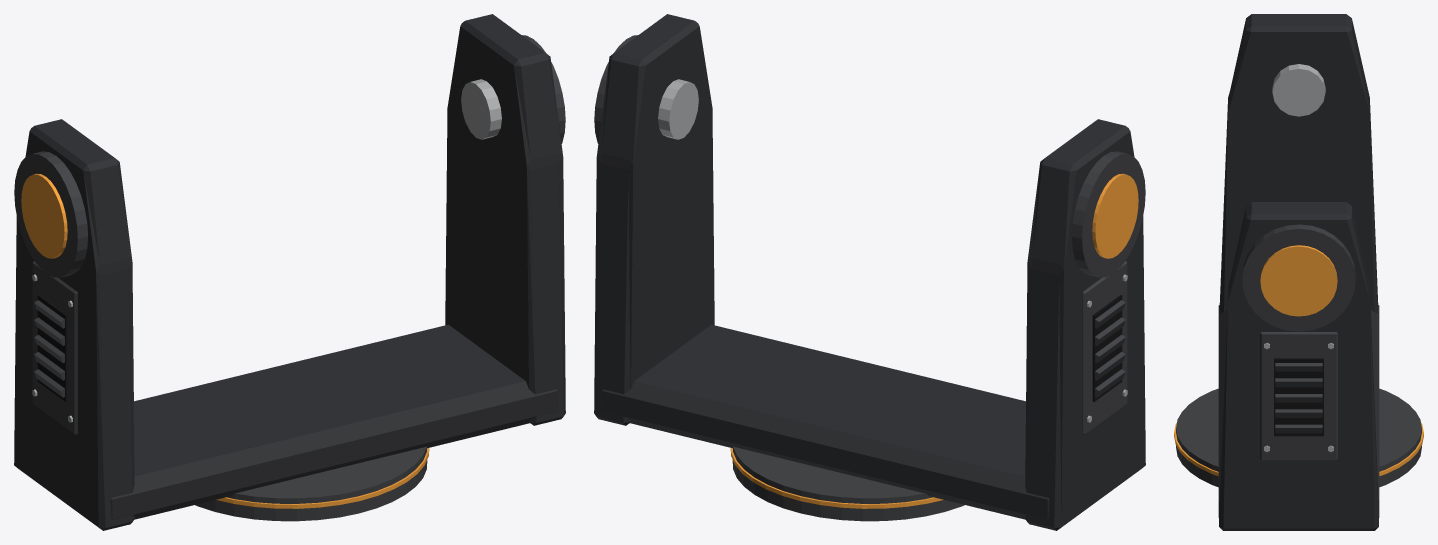
The model's file is csc_pixelwash_w37_yoke.obj.
The picture shows the model from 3 angles, left to right: view 1: azimuth 30°, elevation 25°; view 2: azimuth 150°, elevation 25°; view 3: azimuth 270°, elevation 25°; orthographic projection. The views are drawn at different scales.
Parts seen in each view (by area): view 1: yoke_csc_2f3033, yoke_csc_3f4043, yoke_csc_f9a238, yoke_csc_adafb1, yoke_csc_161618; view 2: yoke_csc_2f3033, yoke_csc_3f4043, yoke_csc_f9a238, yoke_csc_adafb1, yoke_csc_161618; view 3: yoke_csc_2f3033, yoke_csc_3f4043, yoke_csc_f9a238, yoke_csc_adafb1, yoke_csc_161618.
Boxes of the visible parts, x1,y1,x2,y2 form: yoke_csc_2f3033: [14, 14, 565, 530]; yoke_csc_3f4043: [14, 35, 565, 521]; yoke_csc_f9a238: [21, 173, 429, 508]; yoke_csc_adafb1: [32, 79, 501, 422]; yoke_csc_161618: [37, 295, 67, 401]; yoke_csc_2f3033: [594, 14, 1145, 530]; yoke_csc_3f4043: [594, 35, 1145, 521]; yoke_csc_f9a238: [730, 173, 1138, 508]; yoke_csc_adafb1: [658, 79, 1127, 422]; yoke_csc_161618: [1092, 295, 1122, 401]; yoke_csc_2f3033: [1218, 14, 1379, 530]; yoke_csc_3f4043: [1176, 224, 1421, 487]; yoke_csc_f9a238: [1174, 245, 1423, 476]; yoke_csc_adafb1: [1264, 64, 1333, 451]; yoke_csc_161618: [1274, 358, 1323, 436].
Bounding box in the file's own units: 1.13 × 0.8188 × 0.5547.
